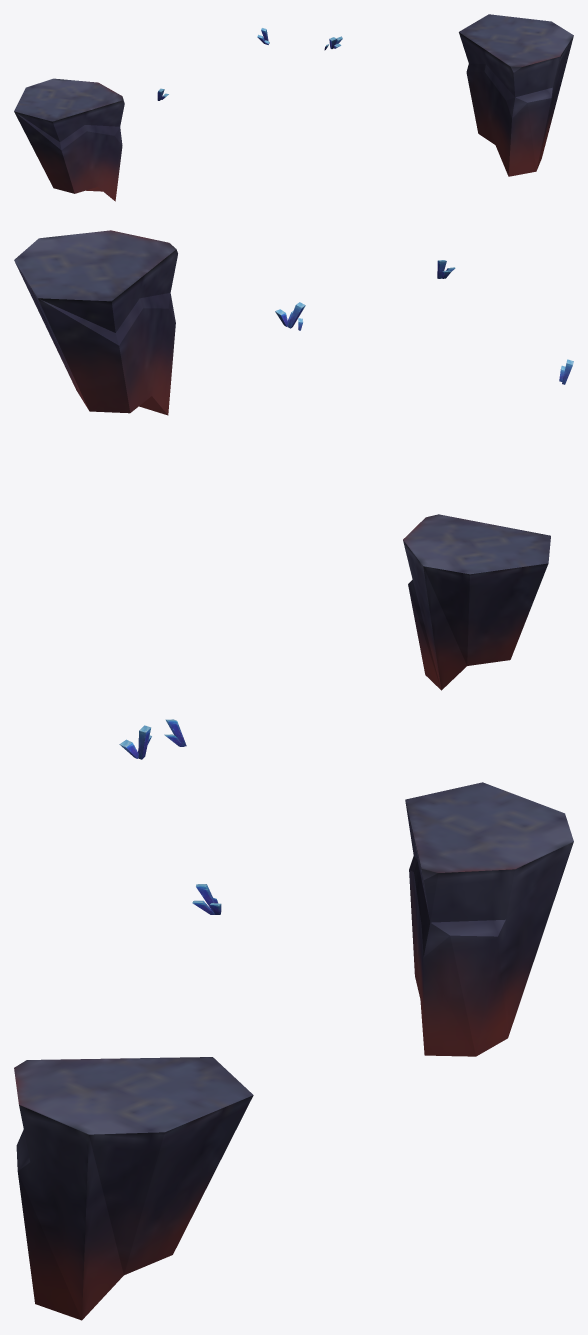
File: Area08_8_y.FBX
3 views of the same model, one above another, from view 1: azimuth 30°, elevation 25°; view 2: azimuth 150°, elevation 25°; view 3: azimuth 270°, elevation 25° (orthographic). The views are drawn at different scales.
Parts seen in each view (by area): view 1: Area08_8_y; view 2: Area08_8_y; view 3: Area08_8_y.
Part boxes in pixels (x1=…): Area08_8_y: x1=14, y1=14, x2=573, y2=201; Area08_8_y: x1=14, y1=230, x2=573, y2=690; Area08_8_y: x1=14, y1=719, x2=573, y2=1320.
Bounding box in the file's own units: 1364 × 592 × 754.
